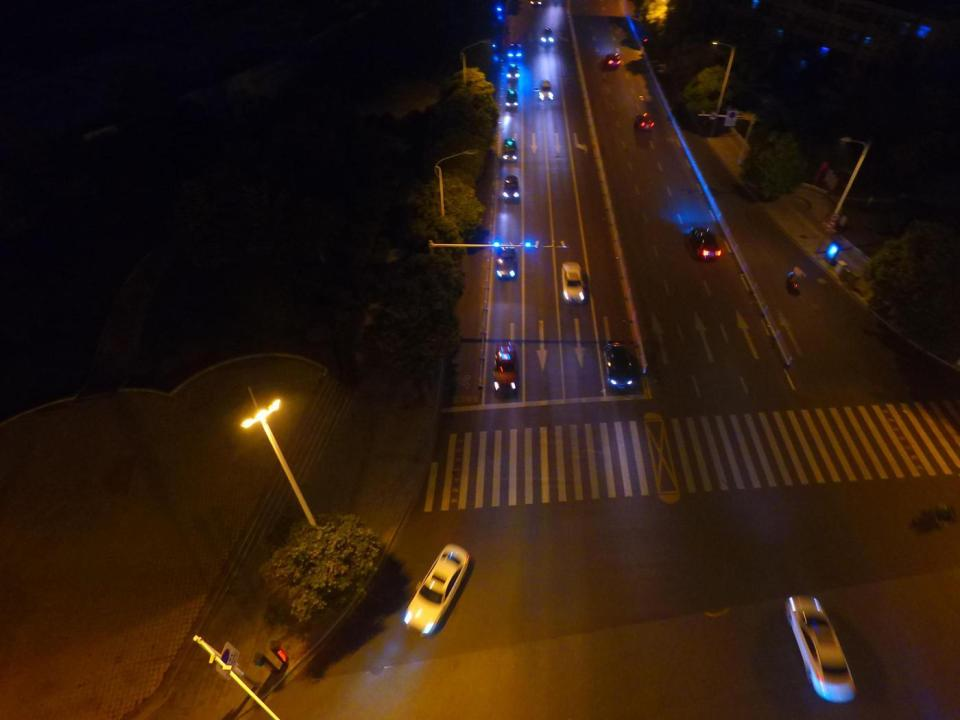car: (786, 596, 854, 703), (404, 543, 470, 637), (492, 342, 520, 396), (605, 343, 635, 391), (561, 260, 586, 304), (692, 226, 721, 261), (494, 243, 518, 280), (502, 174, 520, 202), (502, 138, 517, 164), (635, 112, 652, 132), (506, 43, 524, 61), (539, 79, 552, 103), (606, 52, 622, 69), (540, 28, 554, 47), (507, 64, 520, 82), (506, 89, 518, 108)
